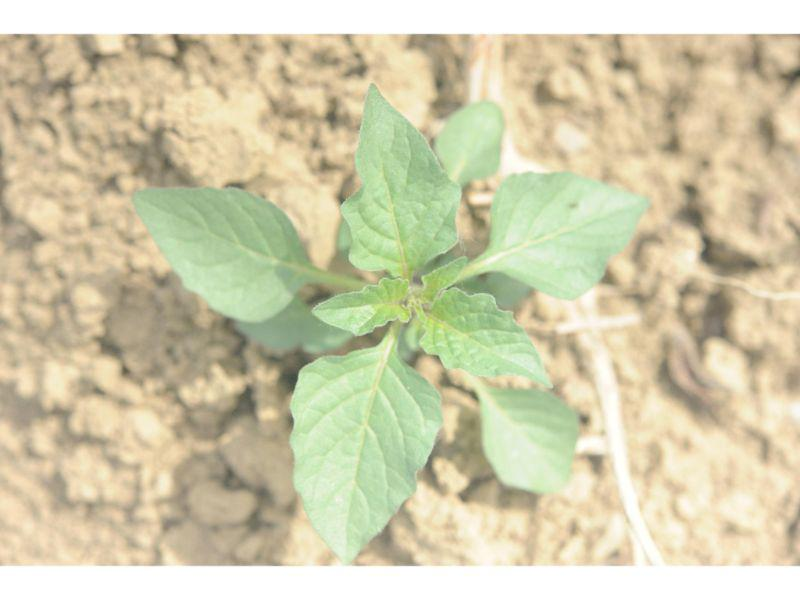nightshade: (130, 81, 650, 566)
